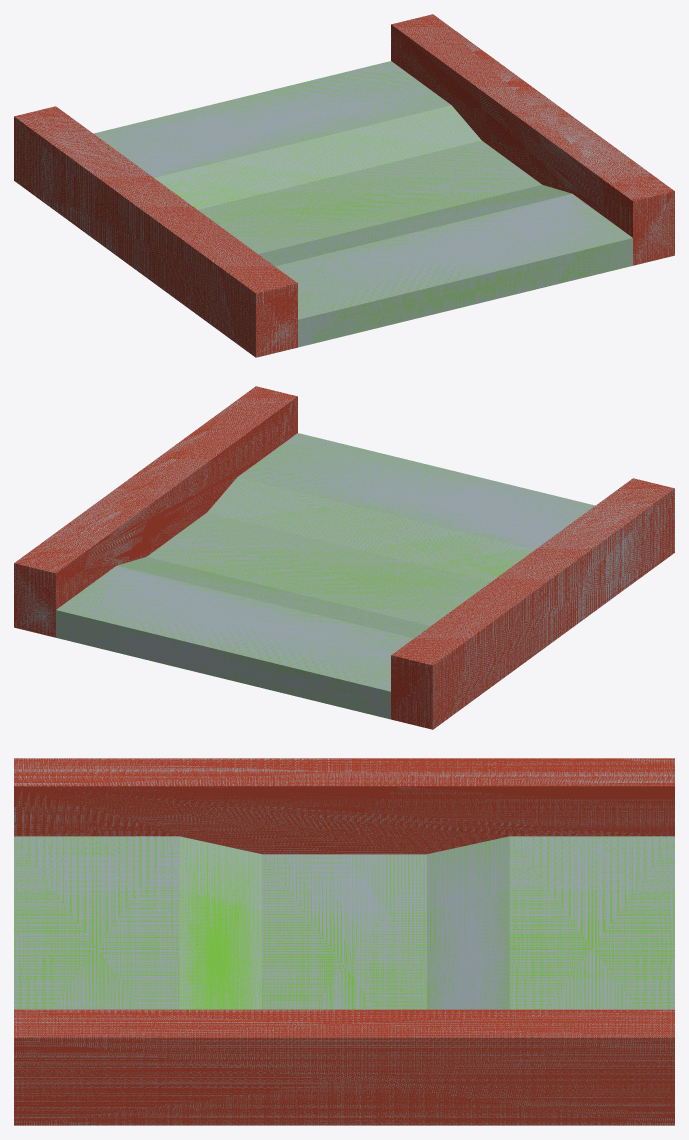
File: Crest_01.obj
3 views of the same model, one above another, from view 1: azimuth 30°, elevation 25°; view 2: azimuth 150°, elevation 25°; view 3: azimuth 270°, elevation 25° (orthographic). The views are drawn at different scales.
Parts seen in each view (by area): view 1: Mesh1 Crest Model; view 2: Mesh1 Crest Model; view 3: Mesh1 Crest Model.
Boxes of the visible parts, x1,y1,x2,y2 form: Mesh1 Crest Model: (14,14,674,357); Mesh1 Crest Model: (14,386,674,729); Mesh1 Crest Model: (14,758,674,1125).
Bounding box in the file's own units: 3 × 0.44 × 3.
